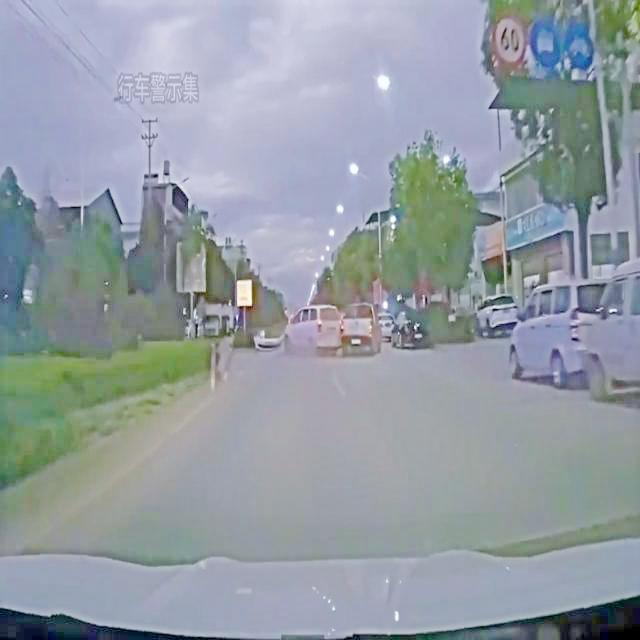Car: (504, 272, 600, 386), (580, 263, 640, 395), (286, 299, 343, 359), (474, 296, 517, 348), (341, 304, 381, 358)
Minor Accident: (284, 306, 381, 352)
Not Accident: (462, 245, 640, 413)
